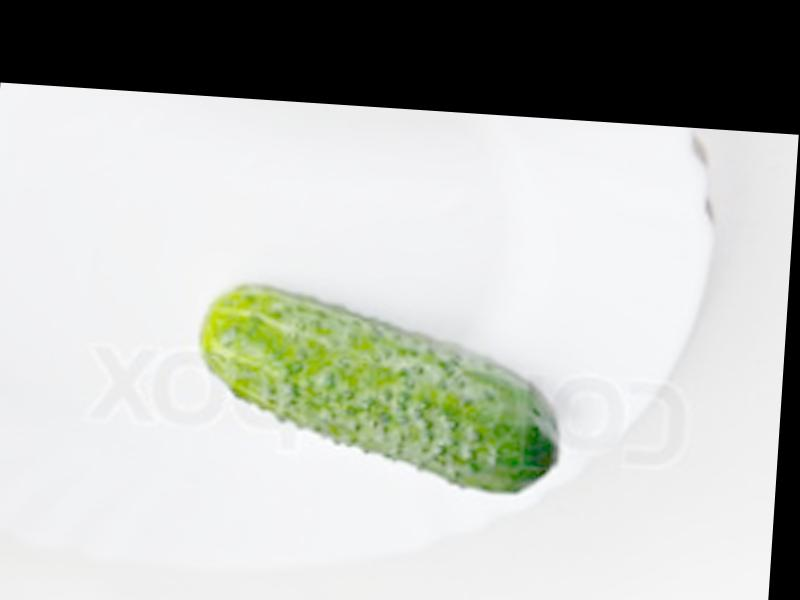Cucumber: (193, 280, 564, 496)
